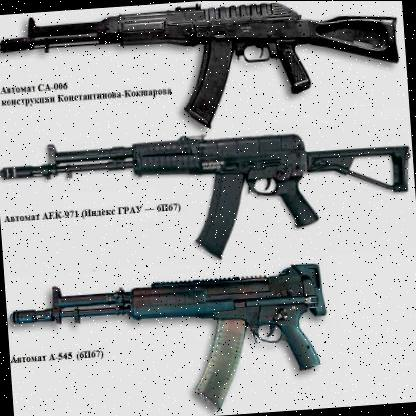rifle: (0, 114, 412, 266), (0, 0, 406, 151), (8, 249, 334, 416)
